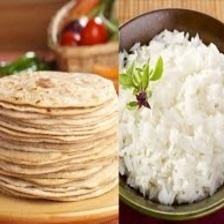roti: (0, 64, 118, 205)
